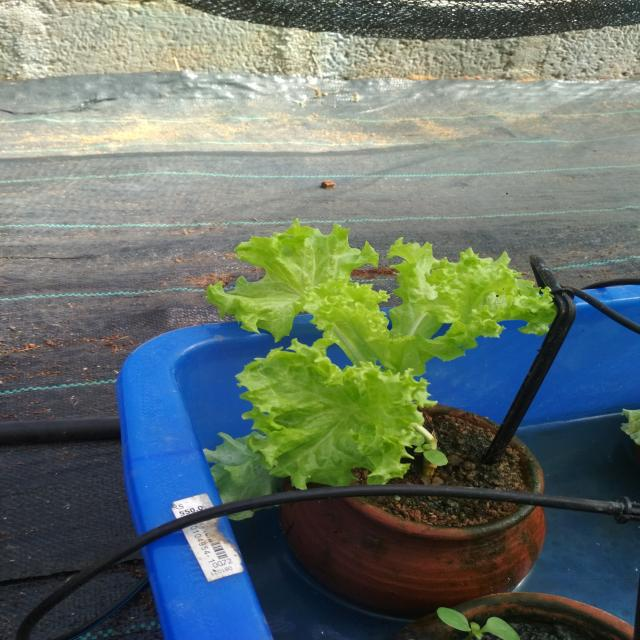Lettuce-Not-Ready-to-Harvest: (191, 216, 560, 498)
